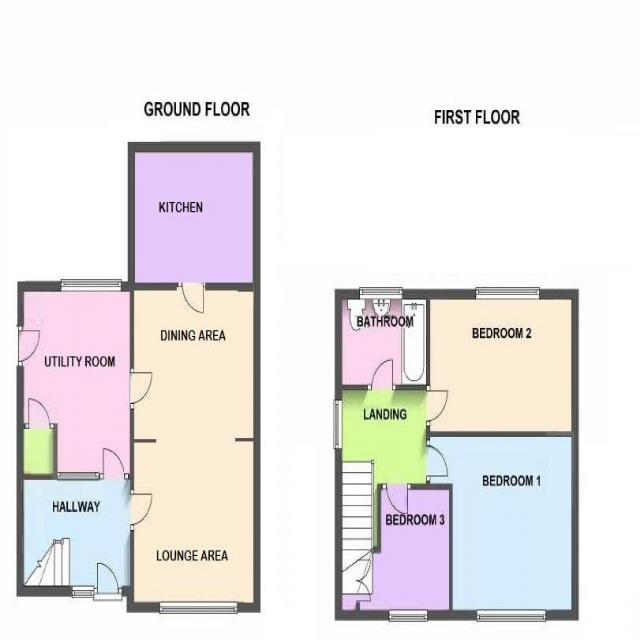DOOR: (425, 444, 450, 480), (385, 482, 409, 519), (102, 446, 127, 481), (96, 561, 120, 597), (180, 281, 205, 315), (17, 328, 42, 362), (129, 370, 154, 404), (130, 492, 154, 527), (28, 396, 52, 430), (370, 358, 394, 392), (425, 389, 449, 423)
ROOM: (126, 282, 261, 614), (425, 430, 579, 624), (16, 278, 153, 481), (127, 141, 261, 315), (426, 286, 580, 437), (16, 447, 153, 602), (355, 483, 453, 623)
WINDOW: (159, 601, 238, 615), (475, 286, 540, 301), (475, 609, 547, 622), (60, 278, 122, 293), (358, 286, 403, 300), (387, 608, 429, 623), (333, 399, 343, 450), (57, 471, 101, 482), (71, 584, 95, 599)
